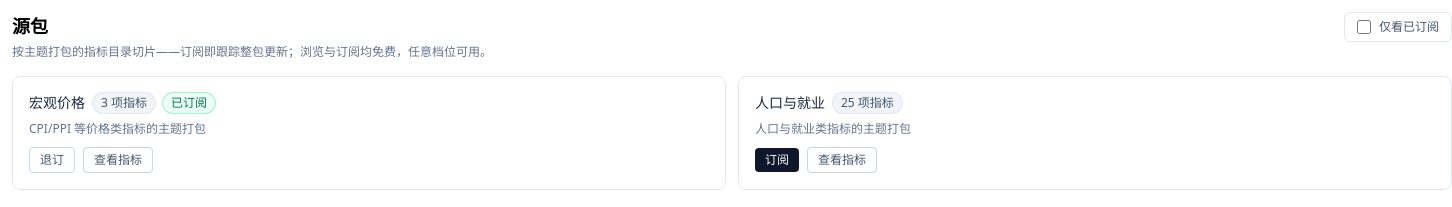
PacksPage（源包 · 卡片墙 + 订阅） › 「仅看已订阅」过滤：开关只保留订阅中的包
Expected: the number of list items with test id "pack-card" is 2, left=12, top=76, right=726, bottom=190; left=738, top=76, right=1451, bottom=190
What coordinates should you click on to do the following:
click the checkbox with test id "packs-only-subscribed"
I would click on:
 (1364, 27)
Its box is left=1357, top=20, right=1371, bottom=34.
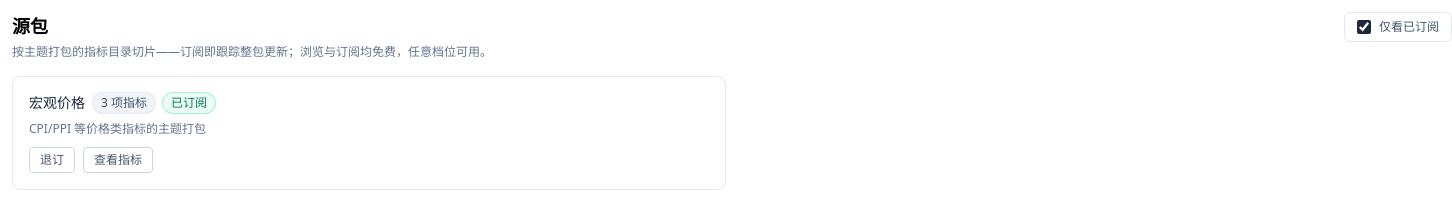
Expected: the number of list items with test id "pack-card" is 1, left=12, top=76, right=726, bottom=190
关闭过滤恢复全量
What coordinates should you click on to do the following:
click the checkbox with test id "packs-only-subscribed"
I would click on:
 (1364, 27)
Its box is left=1357, top=20, right=1371, bottom=34.
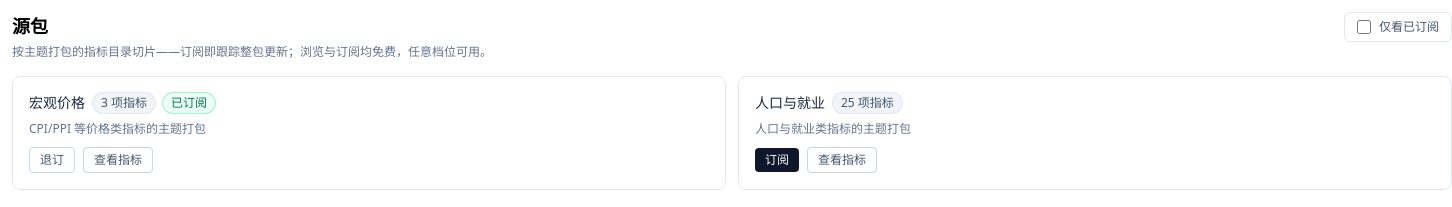
Expected: the number of list items with test id "pack-card" is 2, left=12, top=76, right=726, bottom=190; left=738, top=76, right=1451, bottom=190
